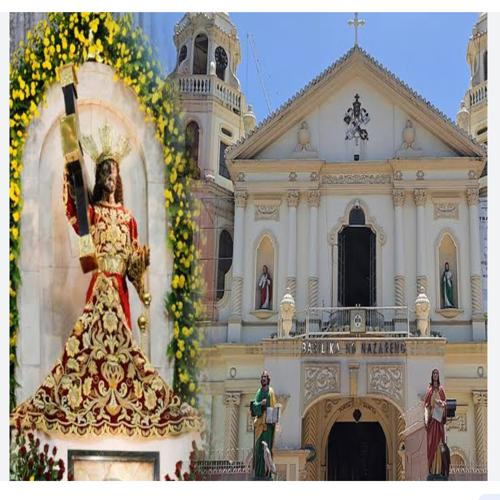Quiapo Church: (160, 14, 487, 452)
